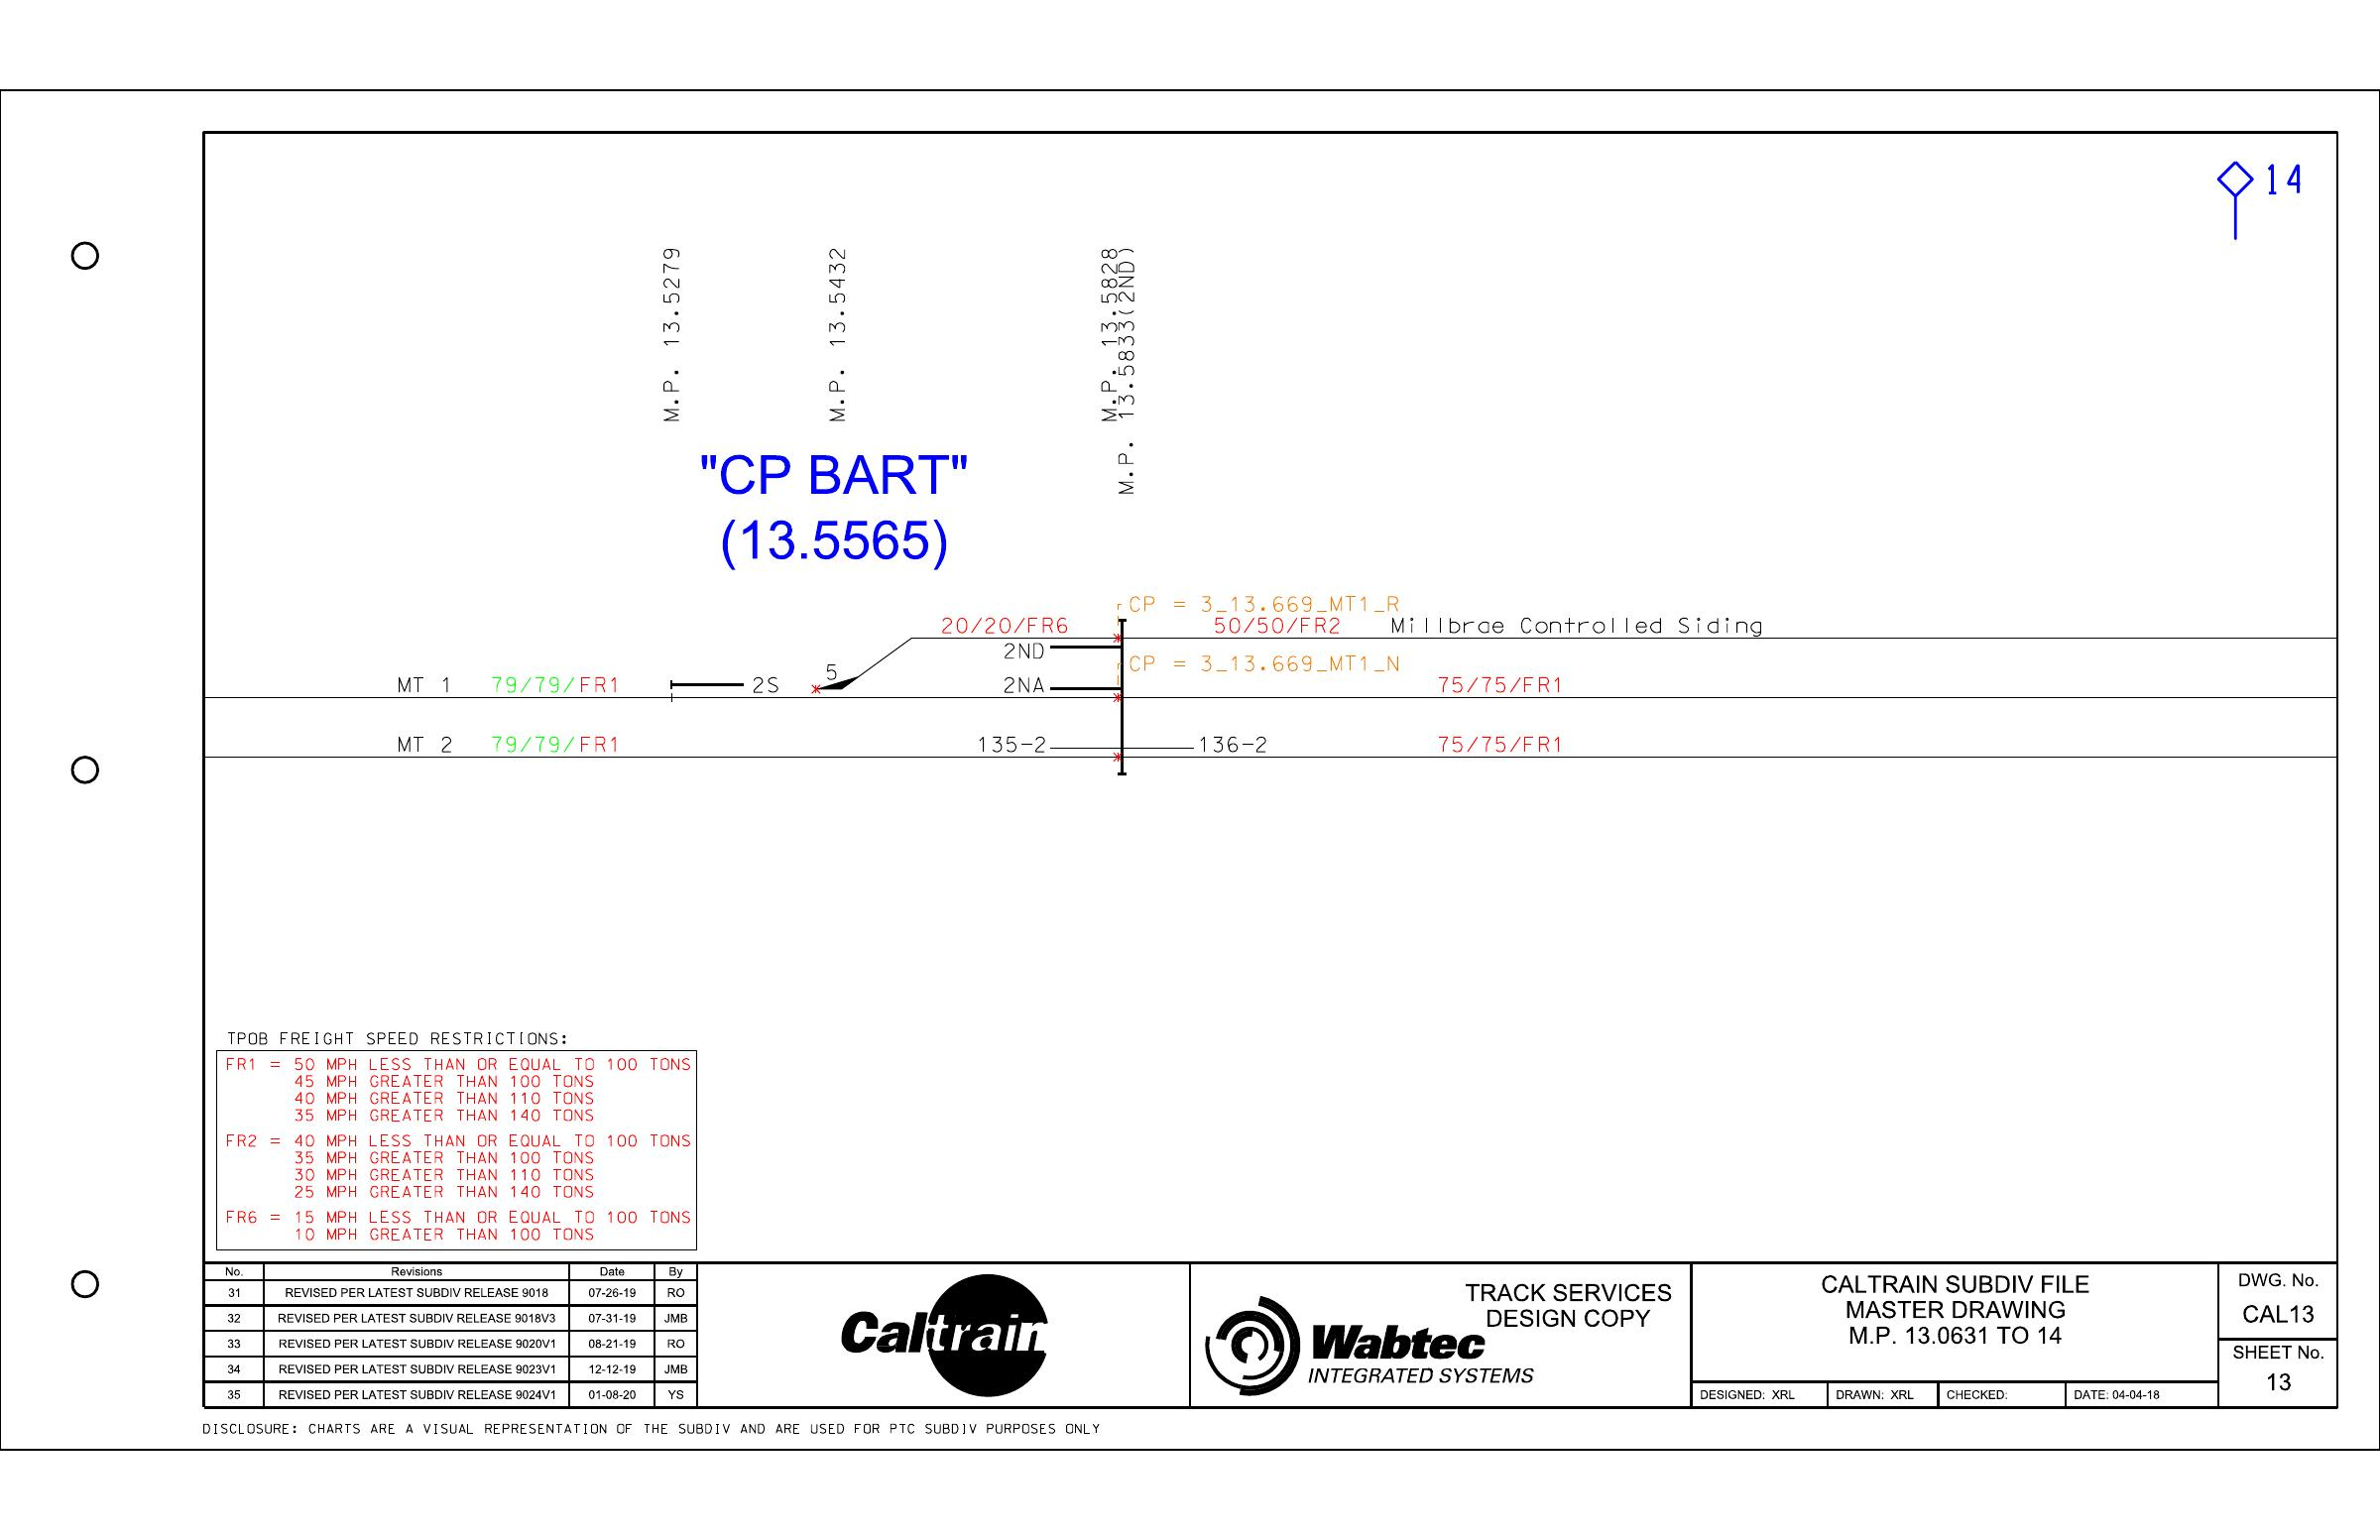milepost: (1112, 231, 1152, 510), (649, 219, 690, 451), (814, 232, 857, 440), (1084, 225, 1119, 446)
signal: (652, 664, 789, 720), (997, 666, 1138, 702), (997, 631, 1133, 666)
switch: (808, 643, 860, 713)
